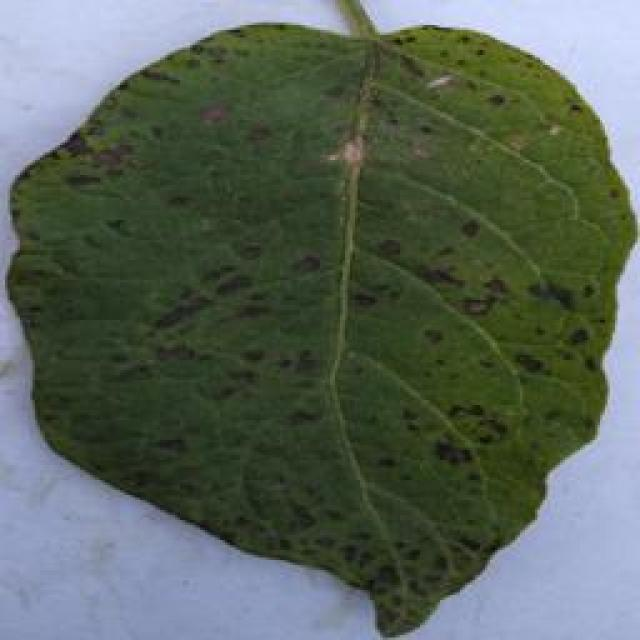Potato_Early_Blight: (7, 9, 640, 622)
